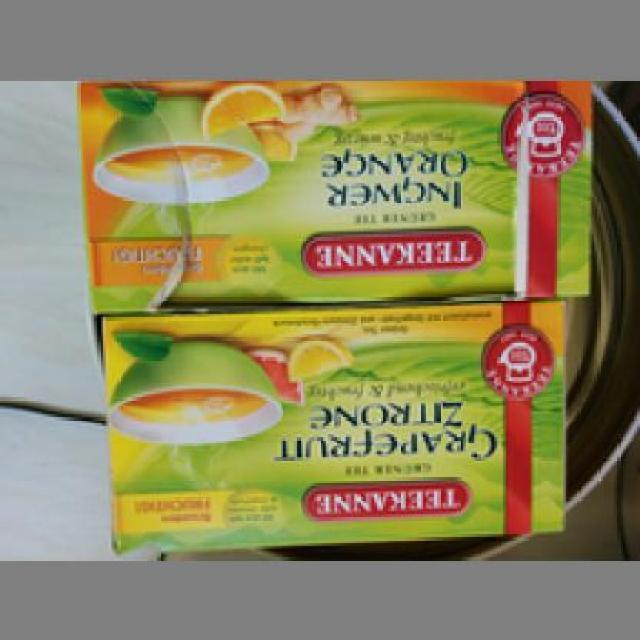Tea: (97, 296, 572, 550), (74, 80, 592, 297)
